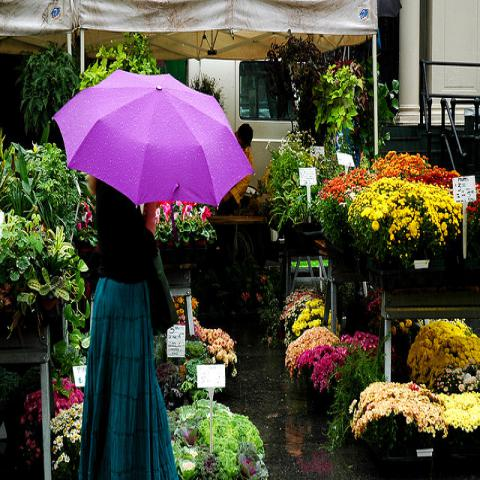truck: (154, 57, 316, 216)
